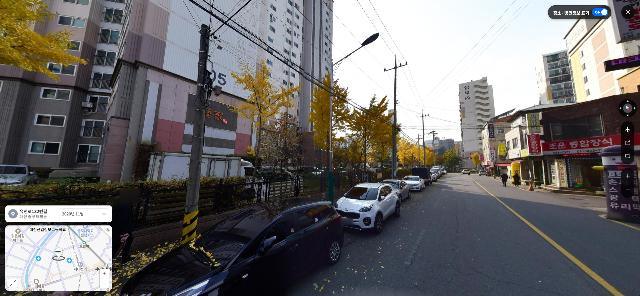ginkgo: (226, 51, 302, 177), (1, 0, 90, 74), (346, 96, 407, 185), (309, 70, 353, 180), (396, 137, 434, 171)
other: (263, 109, 307, 176), (443, 148, 460, 170)
